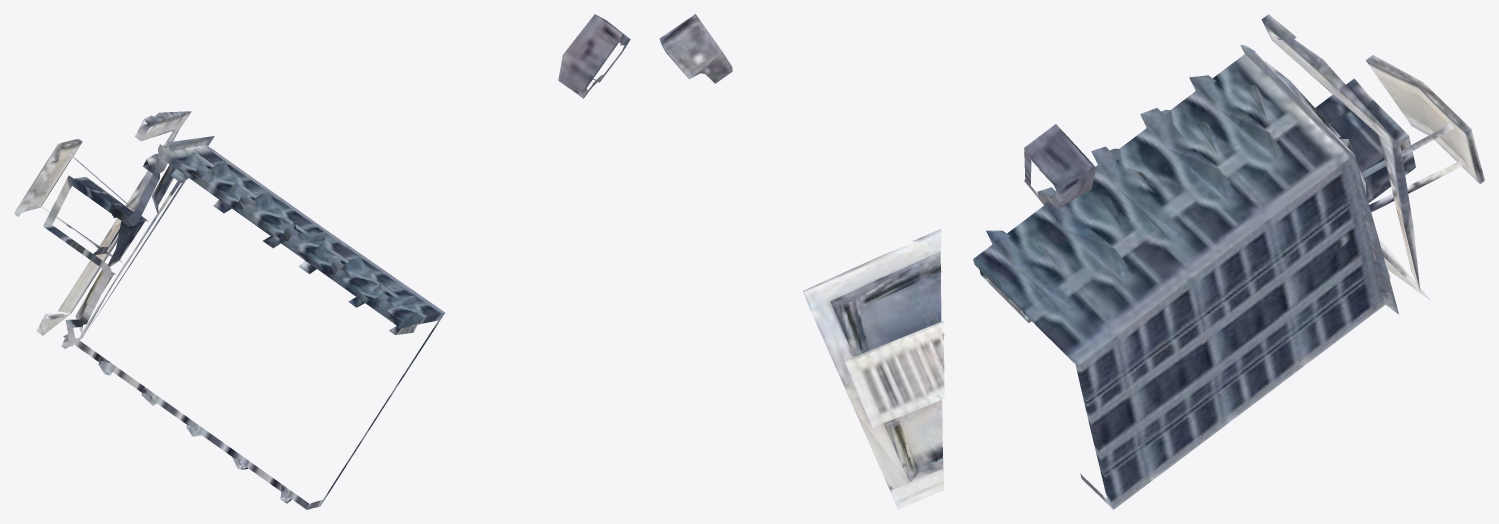
3 renders of one model, left to right at view 1: azimuth 30°, elevation 25°; view 2: azimuth 150°, elevation 25°; view 3: azimuth 270°, elevation 25°, orthographic. The views are drawn at different scales.
Size of the model in its own units: 61.7 by 57.05 by 49.93.
1 material, 1 textured.
